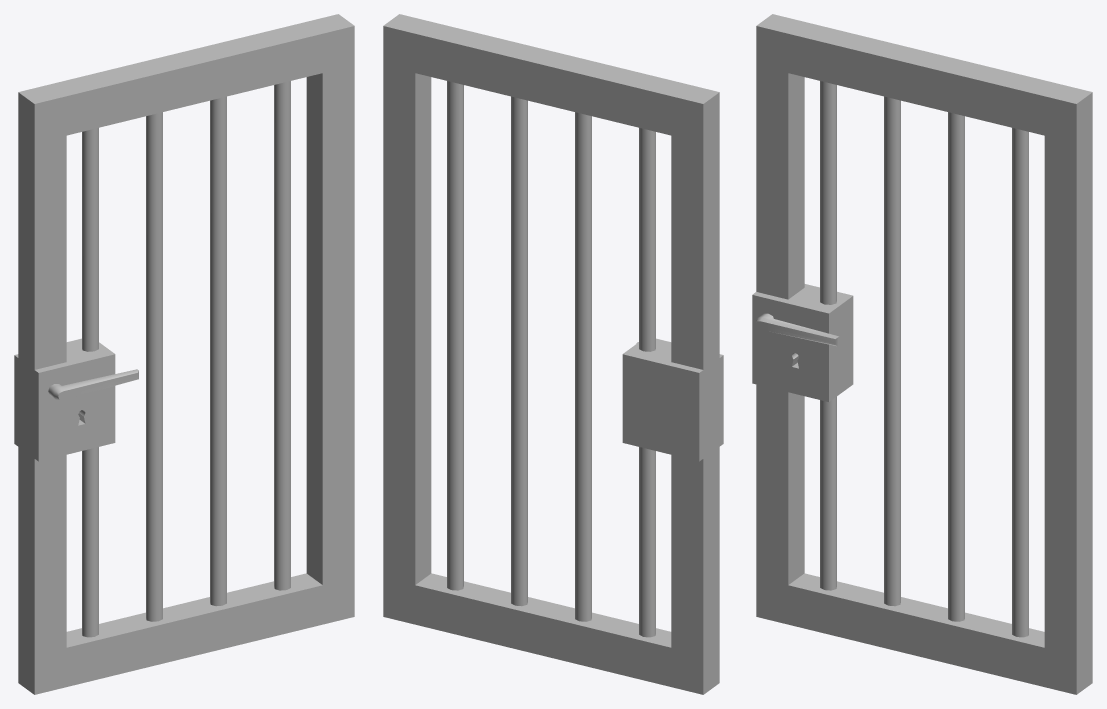
File: door_iron.gltf
The picture shows the model from 3 angles, left to right: view 1: azimuth 30°, elevation 25°; view 2: azimuth 150°, elevation 25°; view 3: azimuth 330°, elevation 25°; orthographic projection.
Parts seen in each view (by area): view 1: Cube; view 2: Cube; view 3: Cube.
Part boxes in pixels (x1=…): Cube: x1=14, y1=14, x2=354, y2=694; Cube: x1=383, y1=14, x2=723, y2=694; Cube: x1=752, y1=14, x2=1092, y2=694.
Size of the model in its own units: 1.29 by 2.28 by 0.2273.
1 material, 1 textured.
